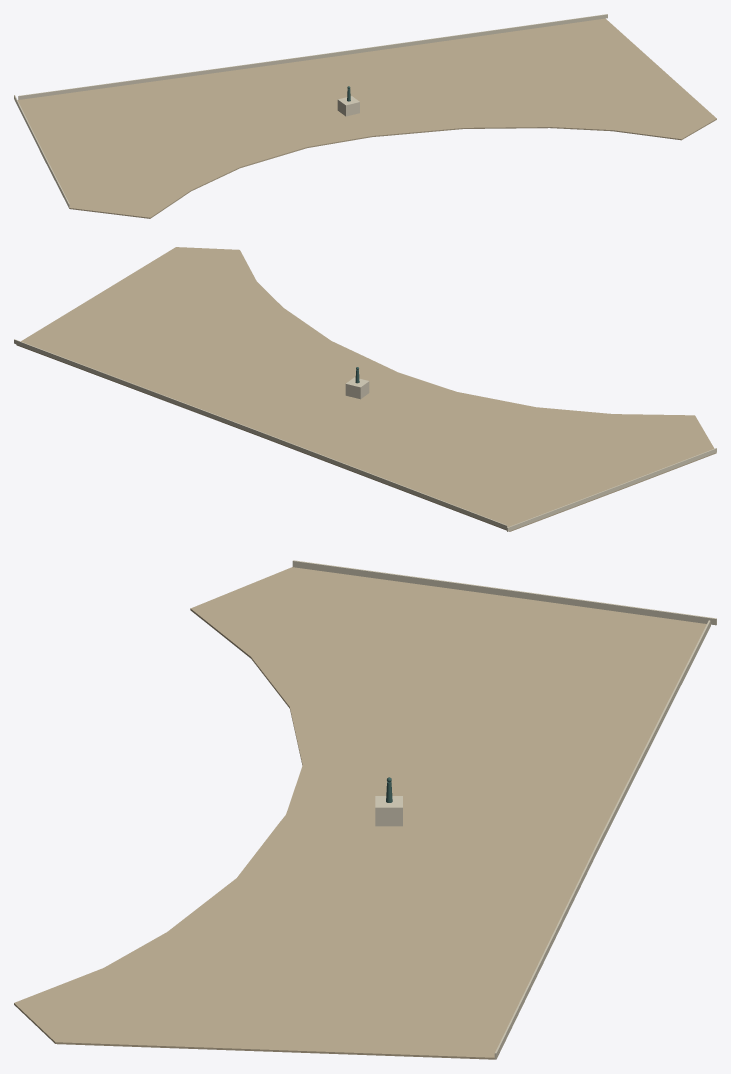
Rendered from piazzale-michelangelo.glb.
The picture shows the model from 3 angles, top to bottom: view 1: azimuth 30°, elevation 25°; view 2: azimuth 150°, elevation 25°; view 3: azimuth 270°, elevation 25°; orthographic projection. The views are drawn at different scales.
Visible parts, largest first — view 1: mapped-belvedere, belvedere-balustrade, bronze-david-monument-plinth; view 2: mapped-belvedere, belvedere-balustrade; view 3: mapped-belvedere, belvedere-balustrade, bronze-david-monument-plinth.
Part boxes in pixels (x1,y1,x2,y2): mapped-belvedere: (17, 18, 716, 218); belvedere-balustrade: (14, 14, 607, 207); bronze-david-monument-plinth: (337, 96, 359, 116); mapped-belvedere: (16, 247, 716, 531); belvedere-balustrade: (14, 339, 716, 531); mapped-belvedere: (14, 567, 710, 1059); belvedere-balustrade: (292, 560, 716, 1059); bronze-david-monument-plinth: (375, 796, 402, 826).
Bounding box in the file's own units: 16 × 0.6787 × 9.64.
